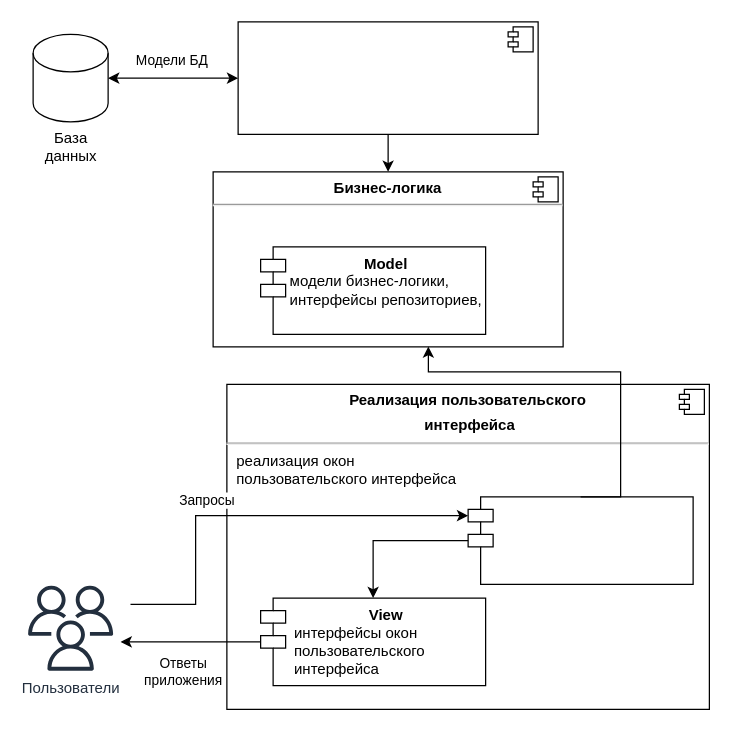
The diagram is 731 pixels wide and 731 high, and some of its shapes have lost their labels. The shapes that lost their labels are listed below. From the top down, each one's centre as x and y in pixels, then its label:
At point 387,77: "Доступ к данным модели БД, реализация репозиториев".
At point 580,540: "Controller".
